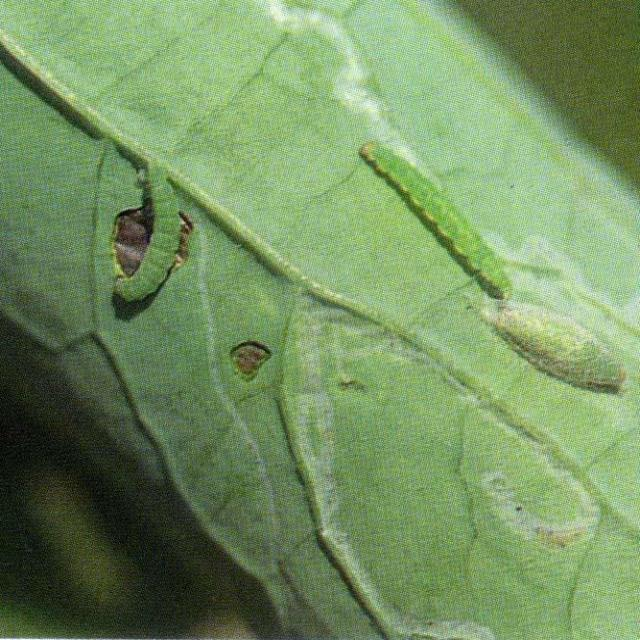armyworm: (346, 127, 629, 399), (105, 156, 193, 309)
